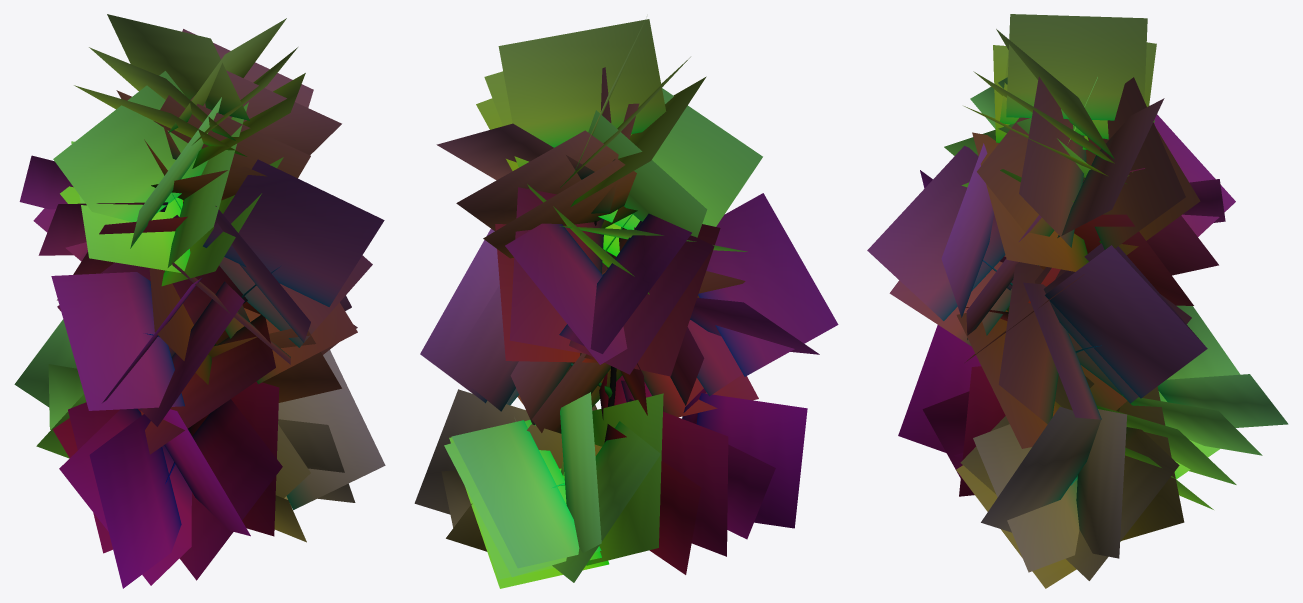
Rendered from URP_P15_Tree_9_LOD_0.fbx.
3 renders of one model, left to right at view 1: azimuth 30°, elevation 25°; view 2: azimuth 150°, elevation 25°; view 3: azimuth 270°, elevation 25°, orthographic. The views are drawn at different scales.
Visible parts, largest first — view 1: Tree_9_LOD_0; view 2: Tree_9_LOD_0; view 3: Tree_9_LOD_0.
Boxes of the visible parts, x1,y1,x2,y2 form: Tree_9_LOD_0: (14,14,385,588); Tree_9_LOD_0: (414,19,838,588); Tree_9_LOD_0: (867,14,1288,588).
Size of the model in its own units: 467 by 751 by 551.
